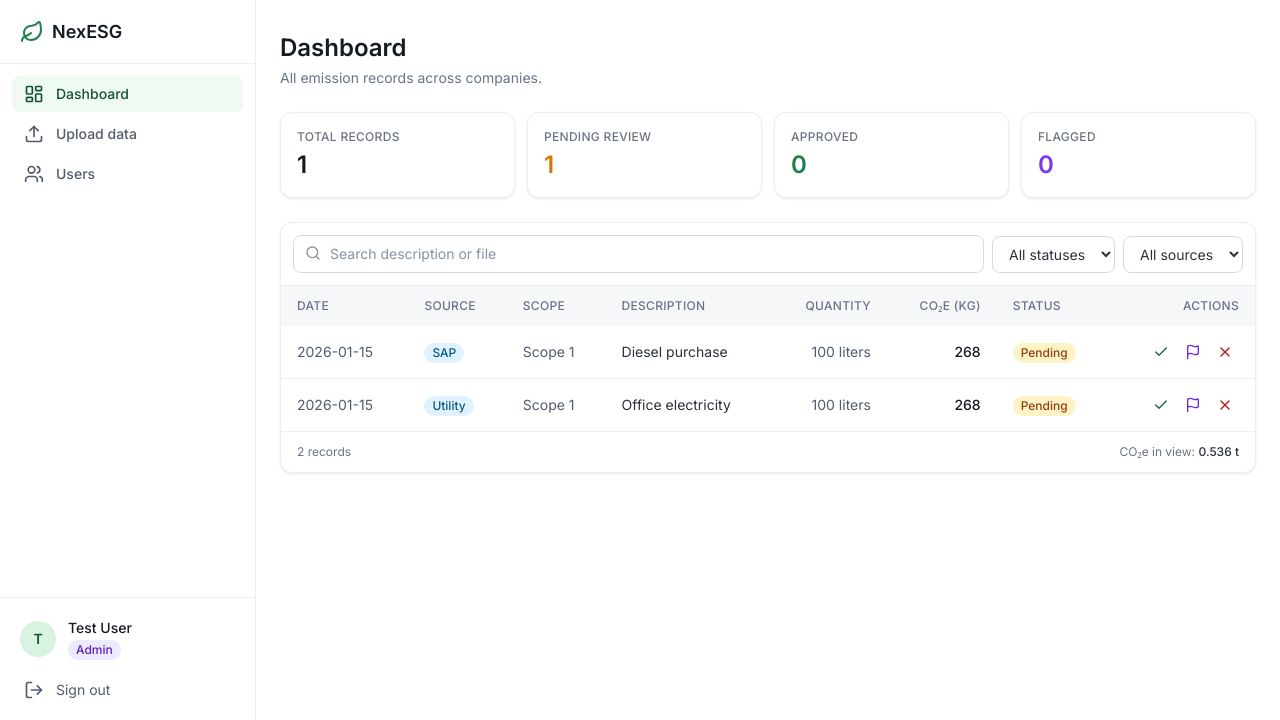
Test case: dashboard by role › search narrows the table
Expected: the text "Diesel purchase" is shown, [606,326,772,378]
Type "electric" into the field named "search records" at (638, 254), box [293,235,984,273]
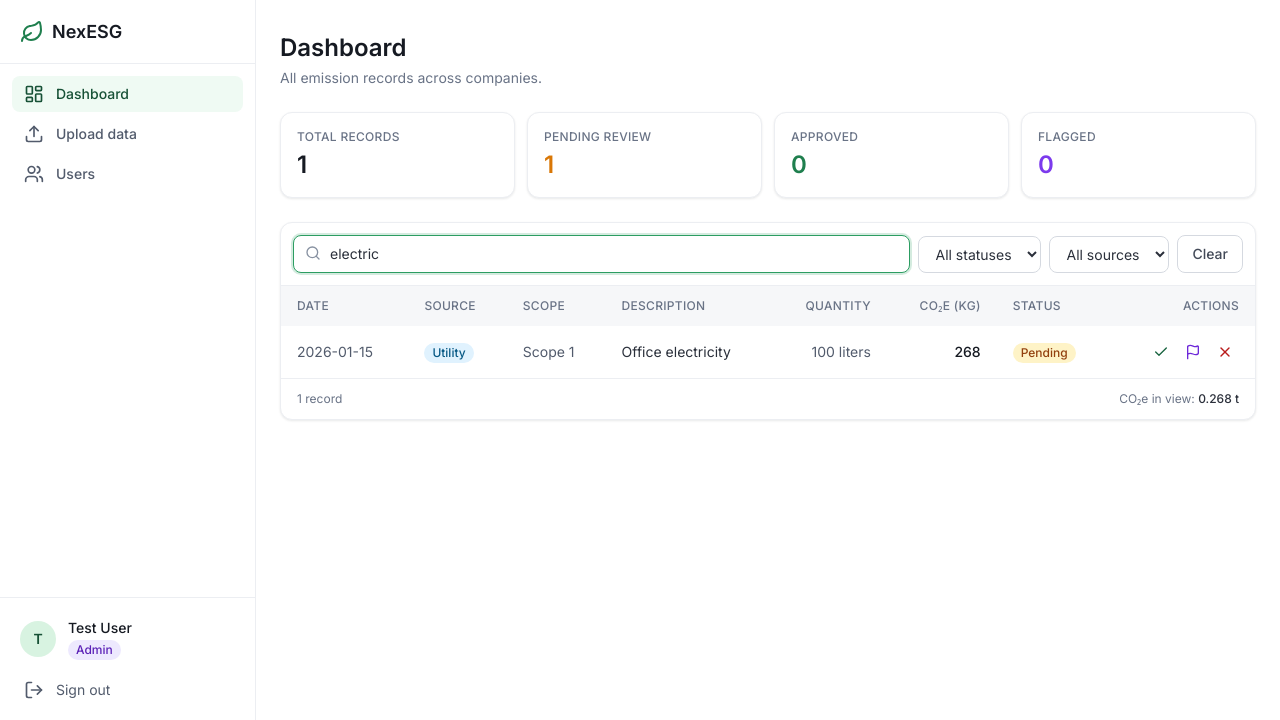
Expected: the text "Office electricity" is shown, [606,326,772,378]
Expected: the text "Diesel purchase" is gone
